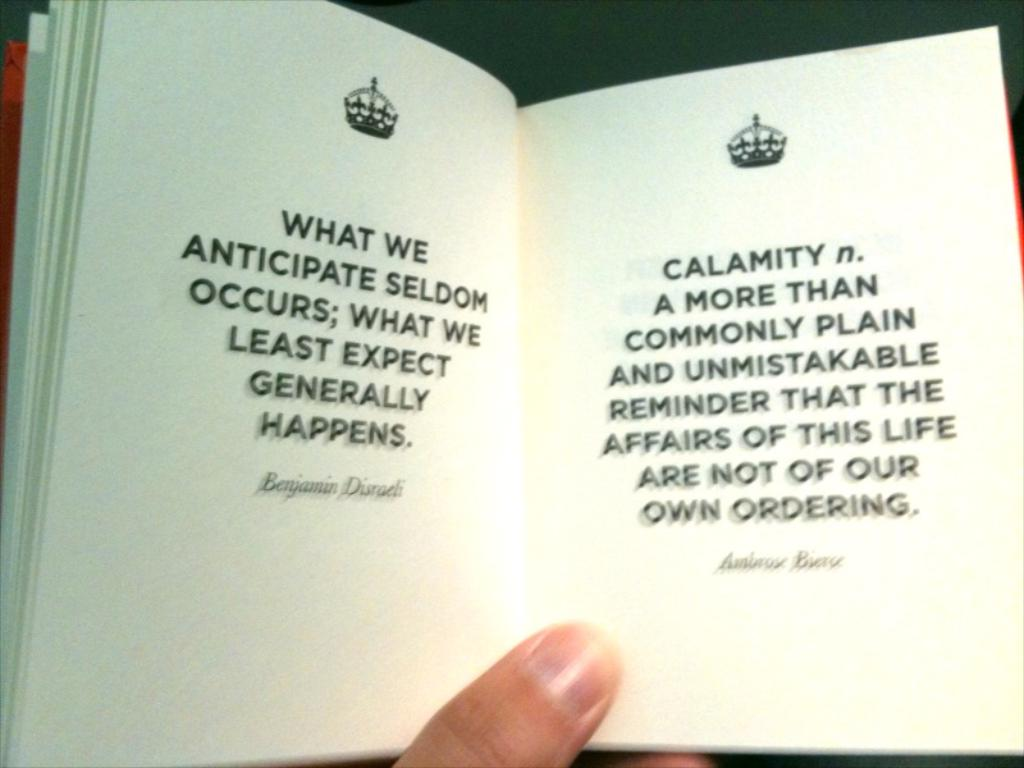Book: (68, 0, 969, 768)
